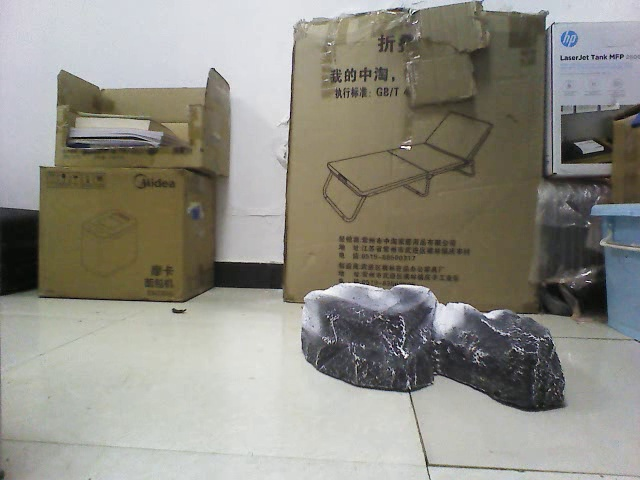rock: (298, 286, 569, 409)
